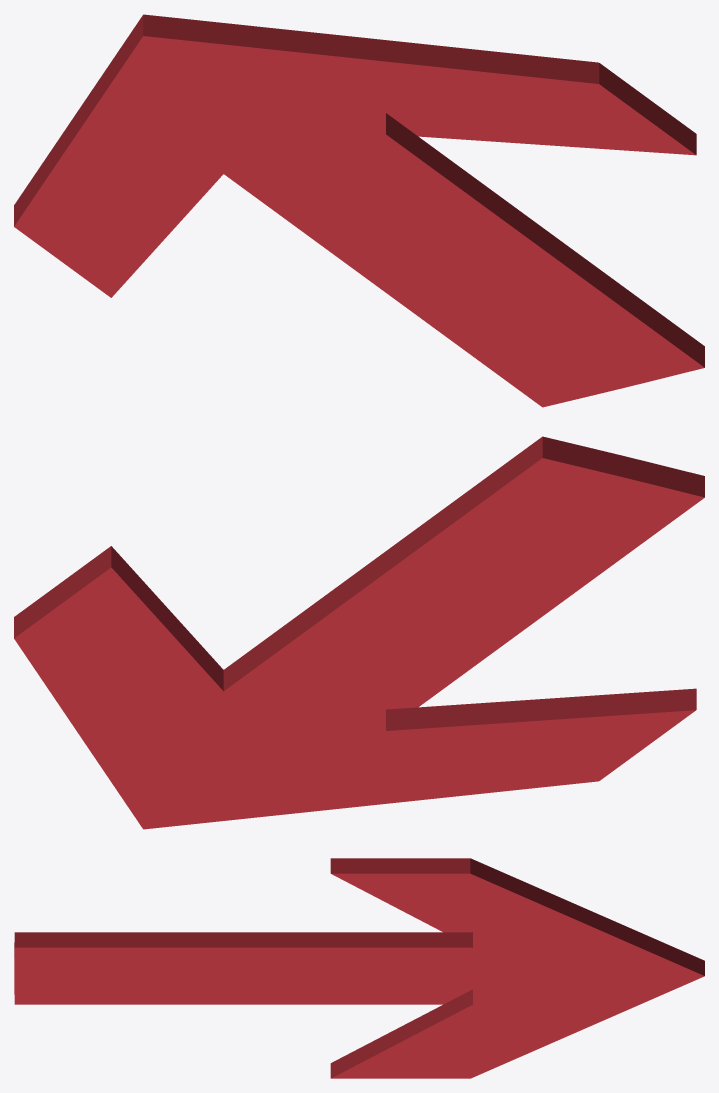
File: redarrow.glb
3 views of the same model, one above another, from view 1: azimuth 30°, elevation 25°; view 2: azimuth 150°, elevation 25°; view 3: azimuth 270°, elevation 25° (orthographic). The views are drawn at different scales.
Visible parts, largest first — view 1: Red_Arrow; view 2: Red_Arrow; view 3: Red_Arrow.
Boxes of the visible parts, x1,y1,x2,y2 form: Red_Arrow: (14,14,704,407); Red_Arrow: (14,436,704,829); Red_Arrow: (14,858,704,1078).
Size of the model in its own units: 25.23 by 0.8863 by 35.92.
